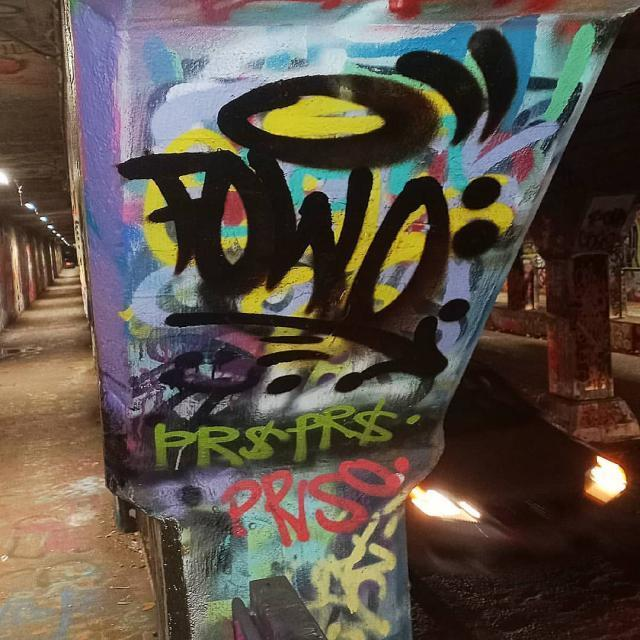-: (132, 34, 466, 396), (148, 406, 398, 458), (212, 466, 404, 532)
